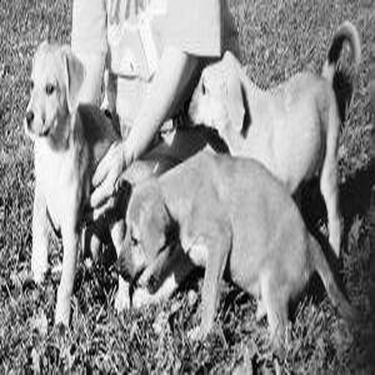dog: (119, 143, 368, 356), (185, 9, 365, 263), (12, 31, 136, 331)
